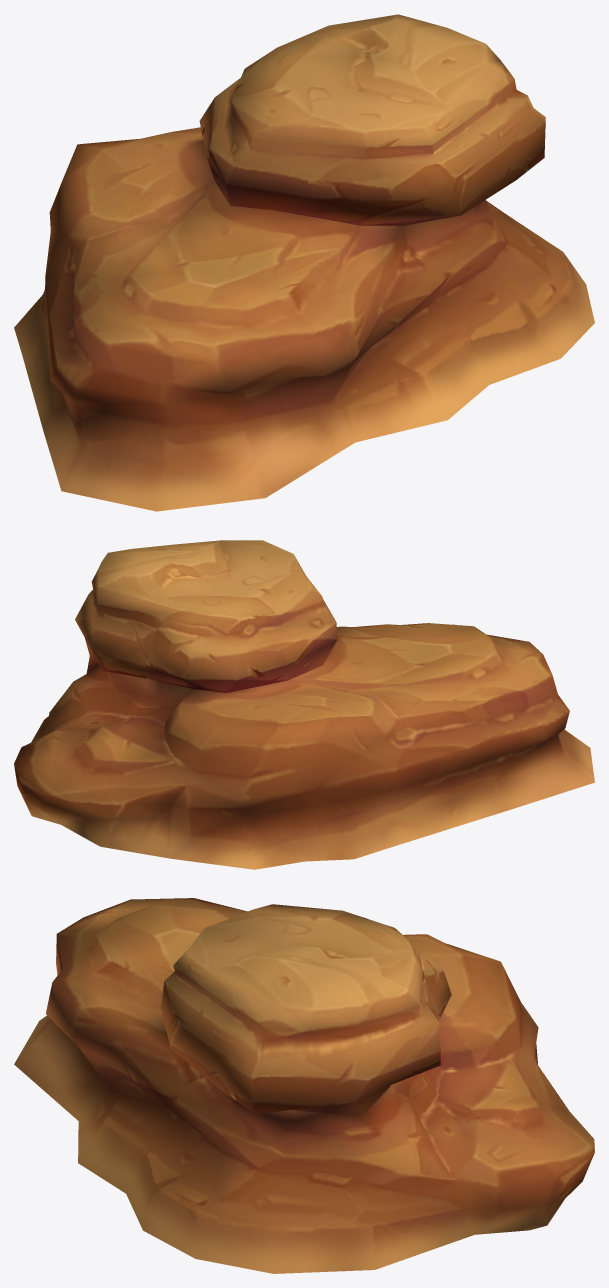
File: huangyexingqiu_shitou05.FBX
3 views of the same model, one above another, from view 1: azimuth 30°, elevation 25°; view 2: azimuth 150°, elevation 25°; view 3: azimuth 270°, elevation 25° (orthographic). The views are drawn at different scales.
Parts seen in each view (by area): view 1: huangyexingqiu_shitou05; view 2: huangyexingqiu_shitou05; view 3: huangyexingqiu_shitou05.
Boxes of the visible parts, left/top/right/bottom form: huangyexingqiu_shitou05: left=14, top=14, right=594, bottom=511; huangyexingqiu_shitou05: left=14, top=540, right=594, bottom=869; huangyexingqiu_shitou05: left=14, top=898, right=594, bottom=1273.
Size of the model in its own units: 6573 by 2681 by 5846.
